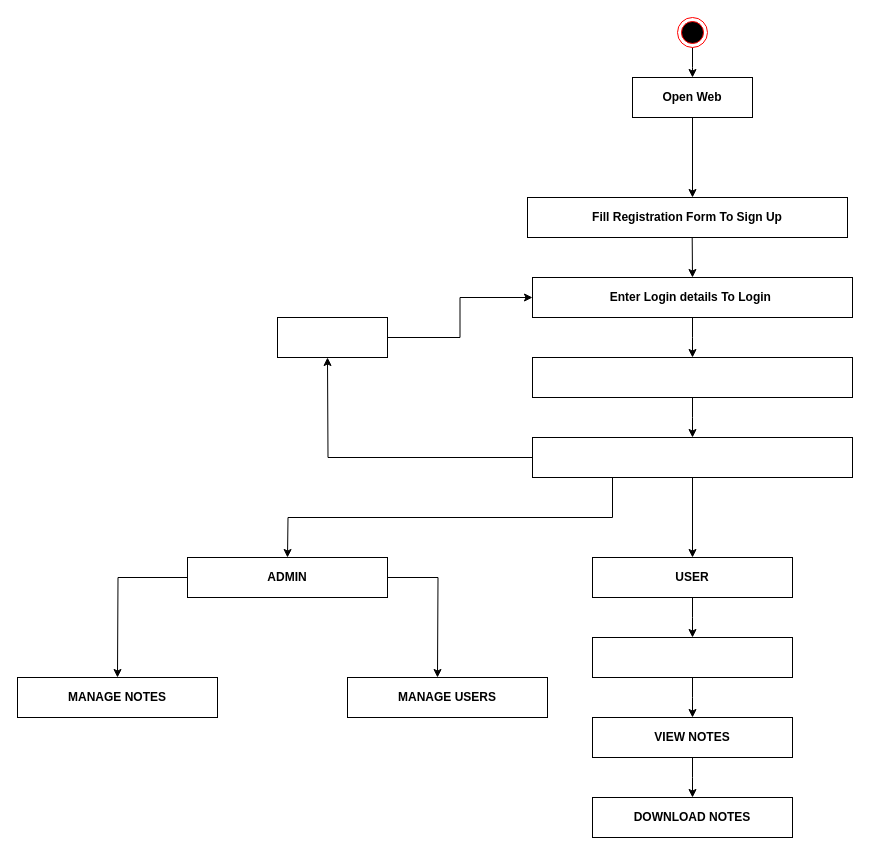
This 870x855 diagram has some shape labels left out. The centre of each missing label's shape, as x and y in pixels:
"NO" belongs at point (332, 337).
"UPLOAD NOTES" belongs at point (692, 657).
"Valid User" belongs at point (692, 377).
"YES" belongs at point (692, 457).
